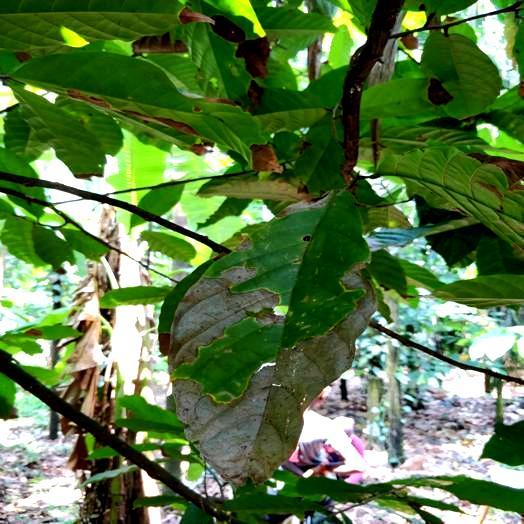Potassium: (170, 192, 374, 481)
